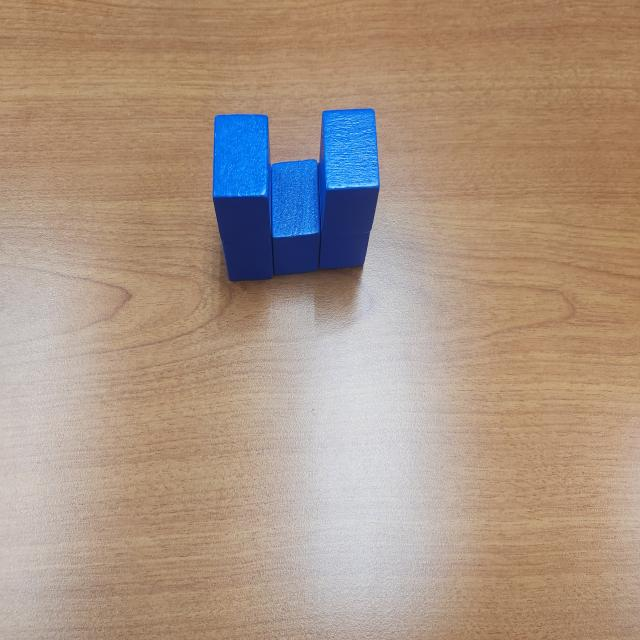blue: (212, 114, 272, 242), (317, 110, 378, 234), (271, 159, 323, 277), (316, 162, 371, 271), (222, 232, 274, 284)
